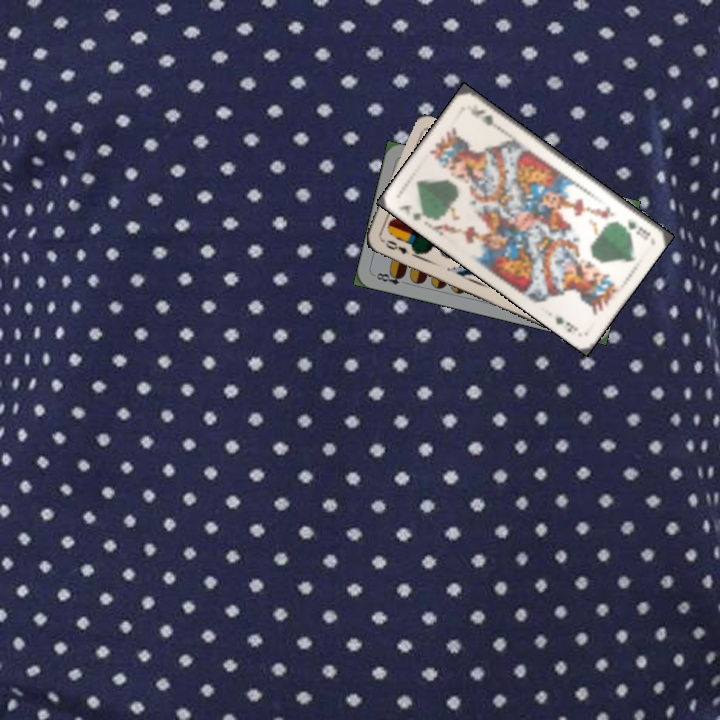E8: (370, 268, 407, 288)
EO: (378, 235, 412, 257)
GK: (395, 200, 434, 224), (623, 217, 653, 243)
